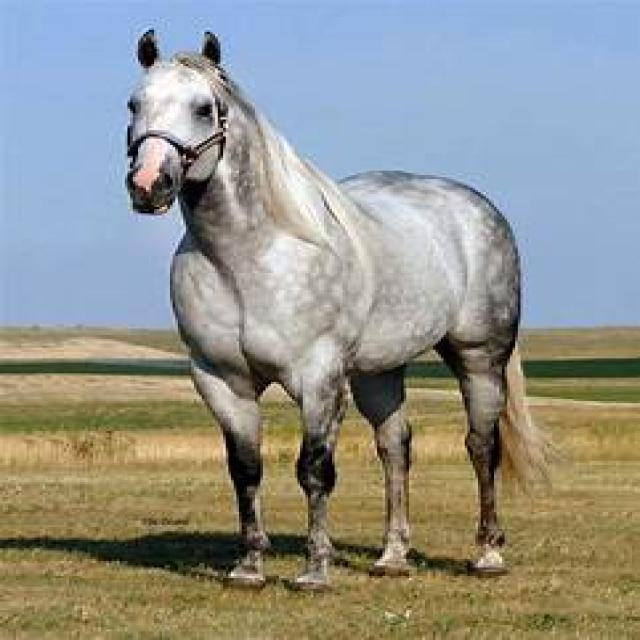animal: (122, 26, 563, 591)
